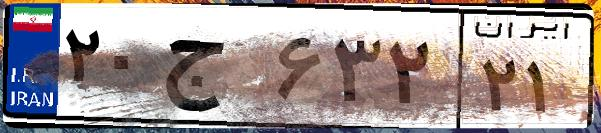0: (110, 28, 158, 98)
1: (525, 38, 570, 115)
2: (385, 28, 445, 110), (57, 26, 110, 100), (475, 38, 525, 113)
3: (330, 28, 385, 110)
6: (270, 28, 330, 110)
ج: (158, 20, 270, 120)
